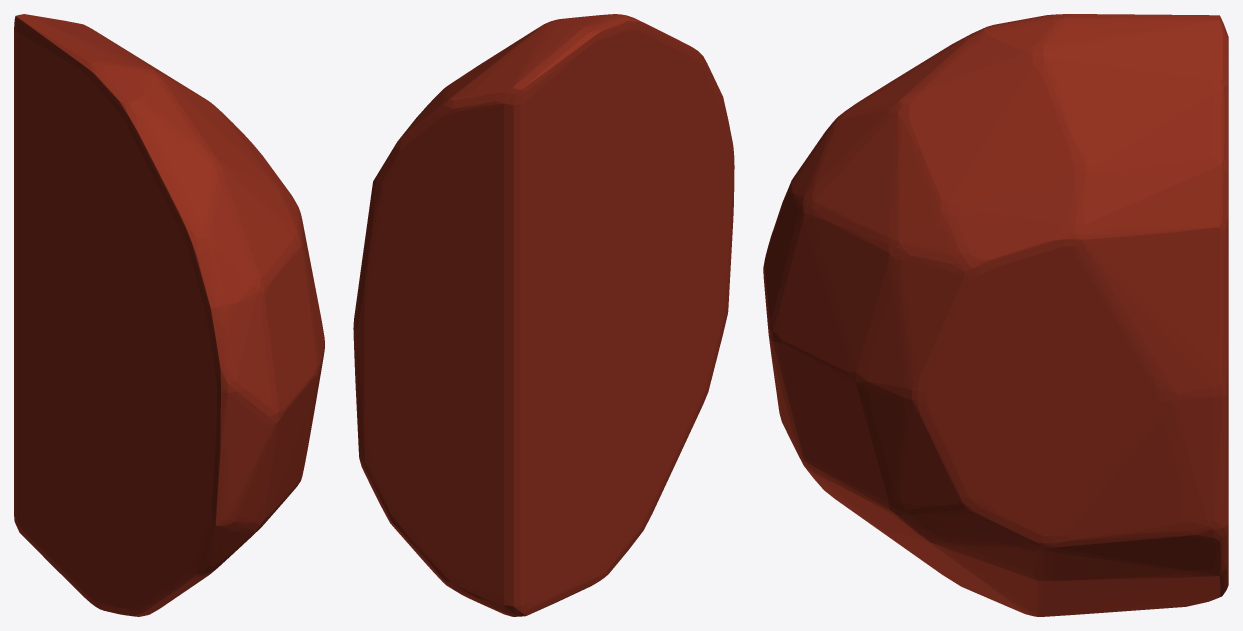
The model's file is left_f_middle_part_15.obj.
3 renders of one model, left to right at view 1: azimuth 30°, elevation 25°; view 2: azimuth 150°, elevation 25°; view 3: azimuth 270°, elevation 25°, orthographic. The views are drawn at different scales.
Size of the model in its own units: 4.76 by 14.23 by 10.22.
